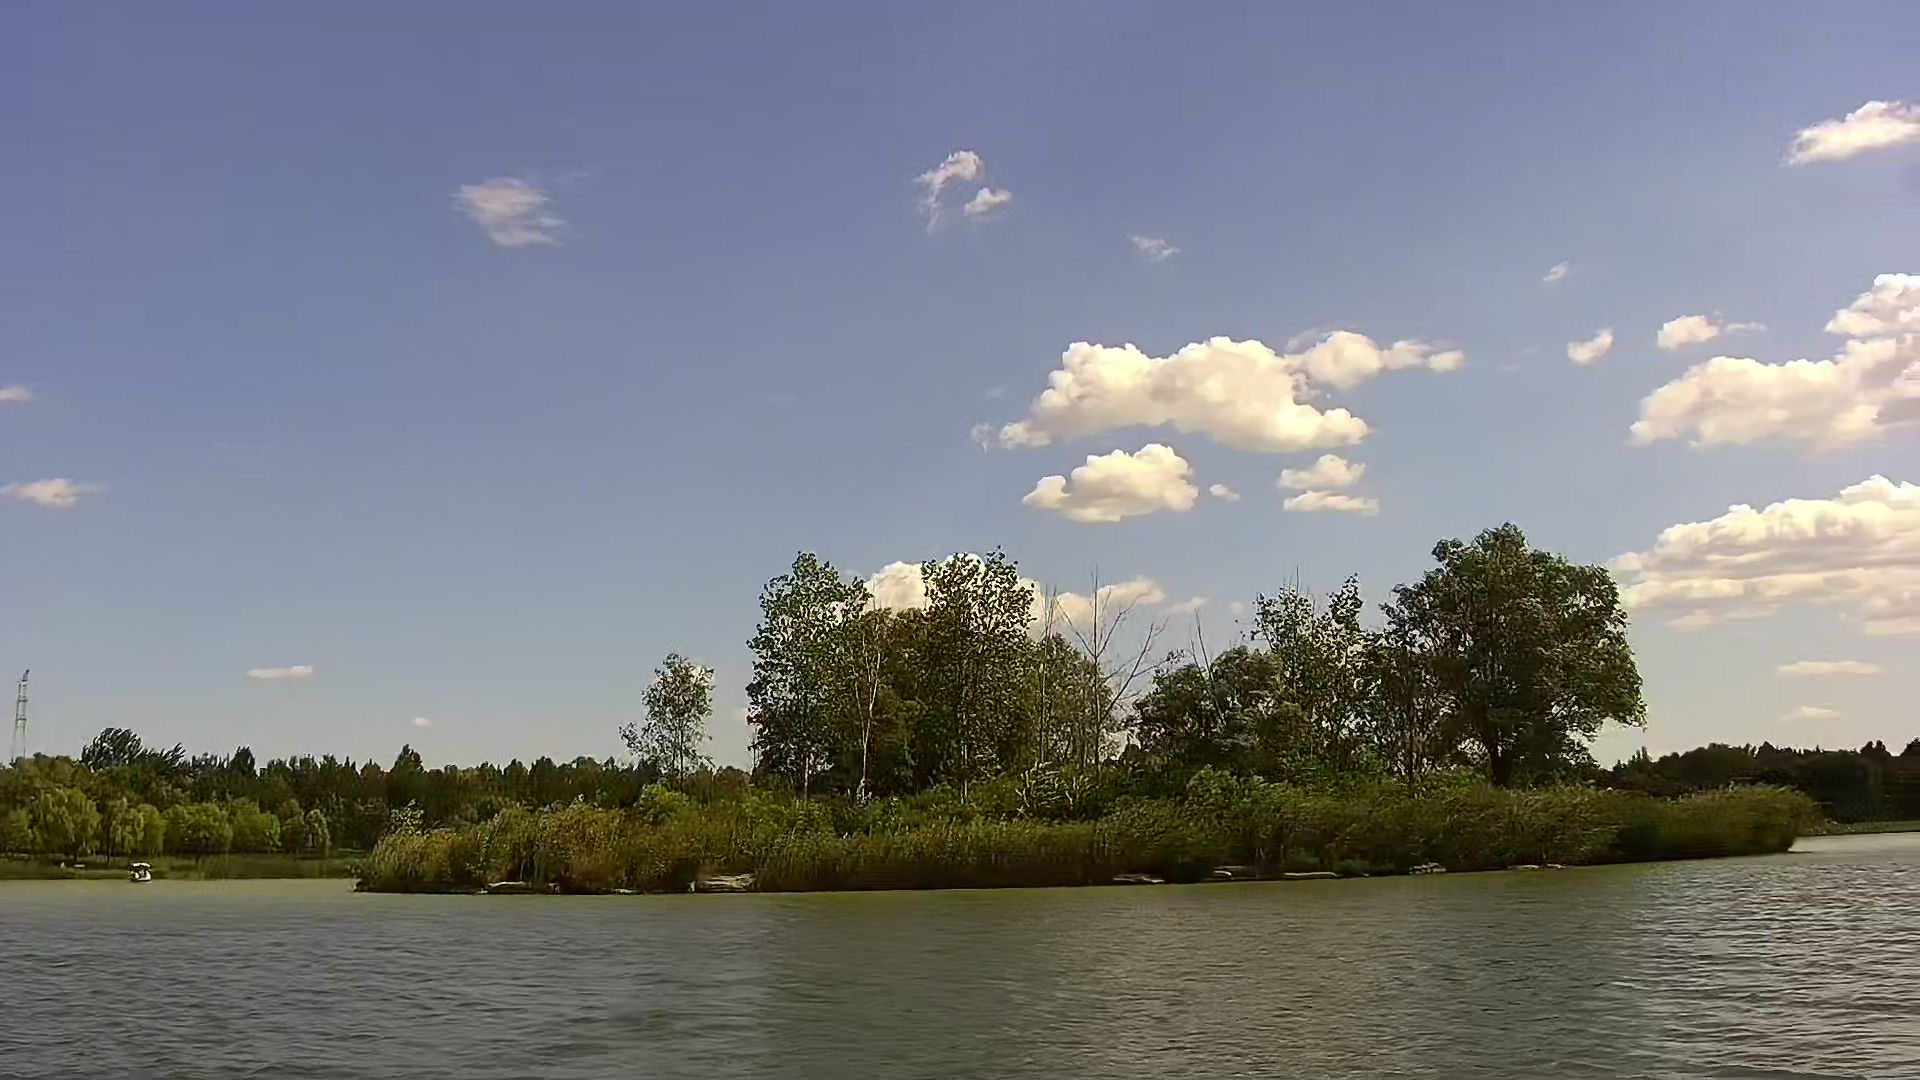rock: (692, 869, 752, 887)
